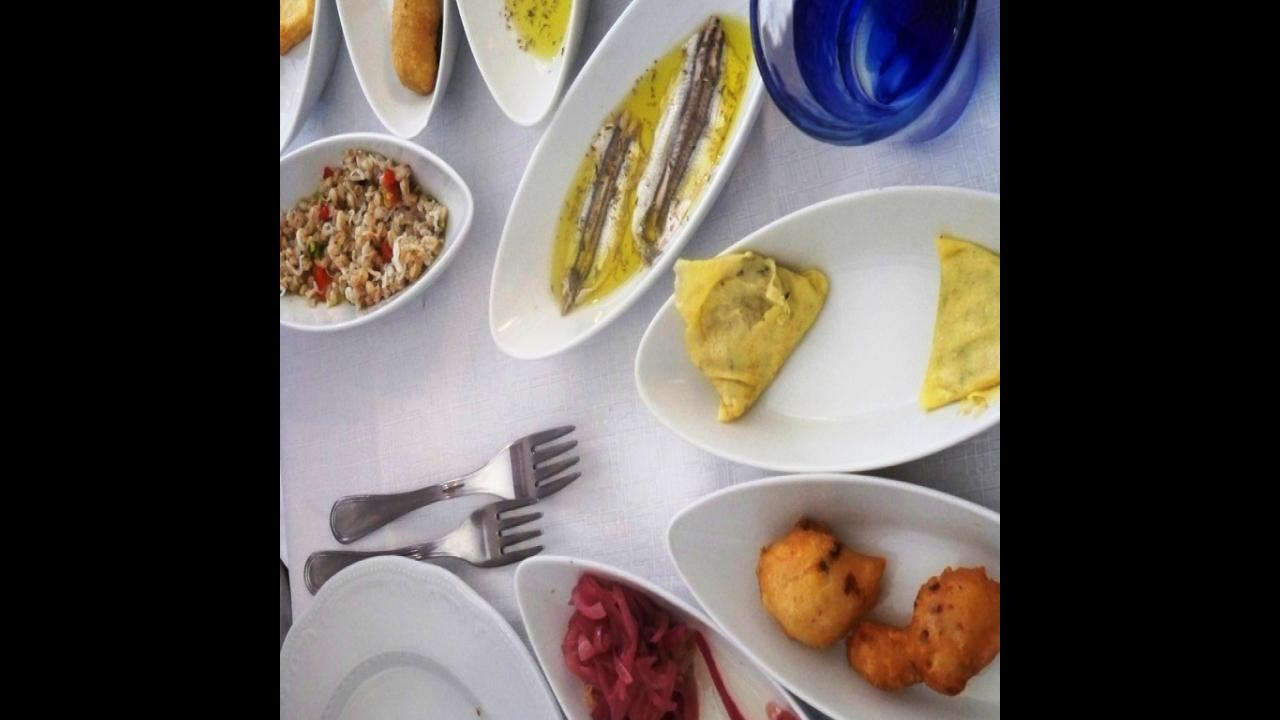fork: (325, 420, 581, 552), (303, 493, 543, 599)
